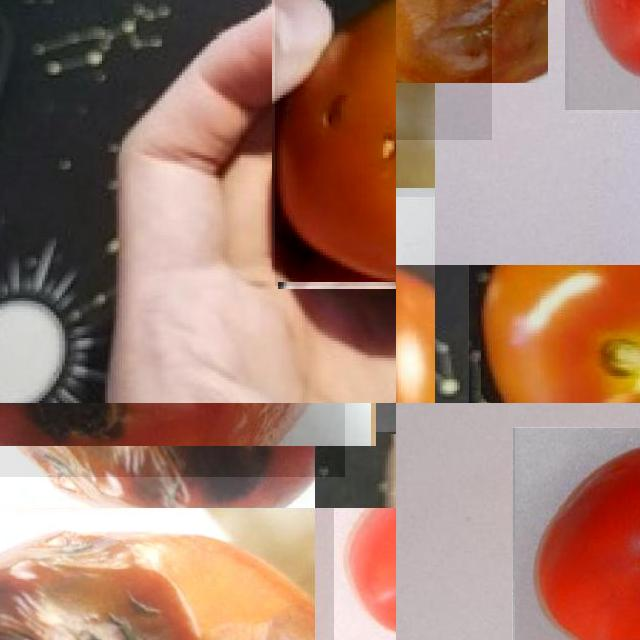1: (274, 0, 396, 285)
Fresh Tomato: (512, 427, 640, 640), (469, 265, 640, 403), (334, 508, 396, 640)
Rotten Tomato: (0, 508, 315, 640), (0, 403, 345, 477), (396, 0, 491, 140)
